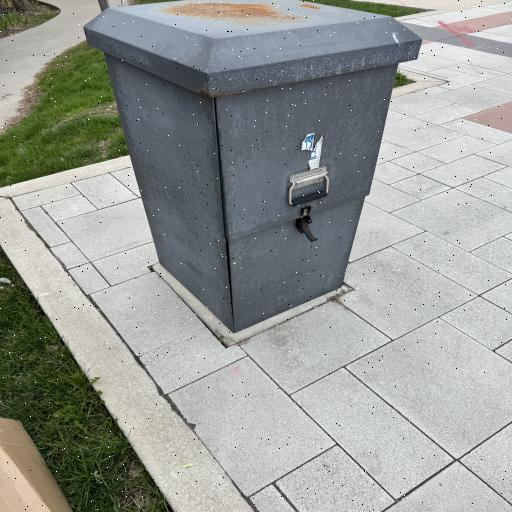Electrical Box: (84, 2, 420, 318)
